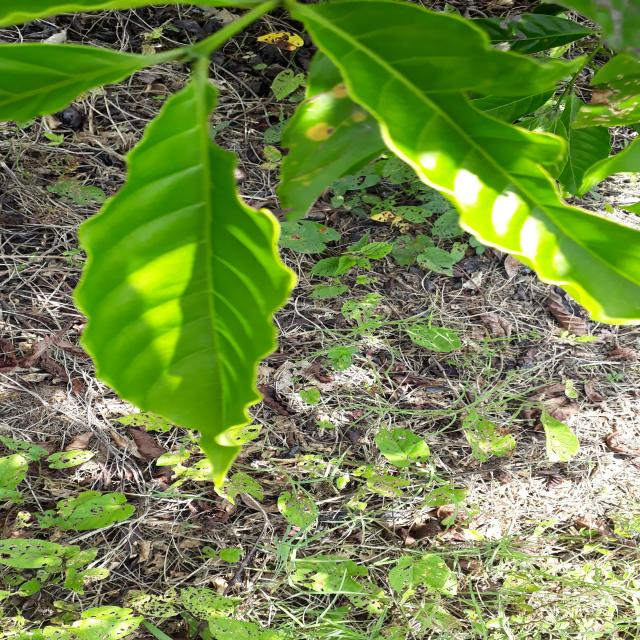Sanas: (73, 66, 279, 486)
